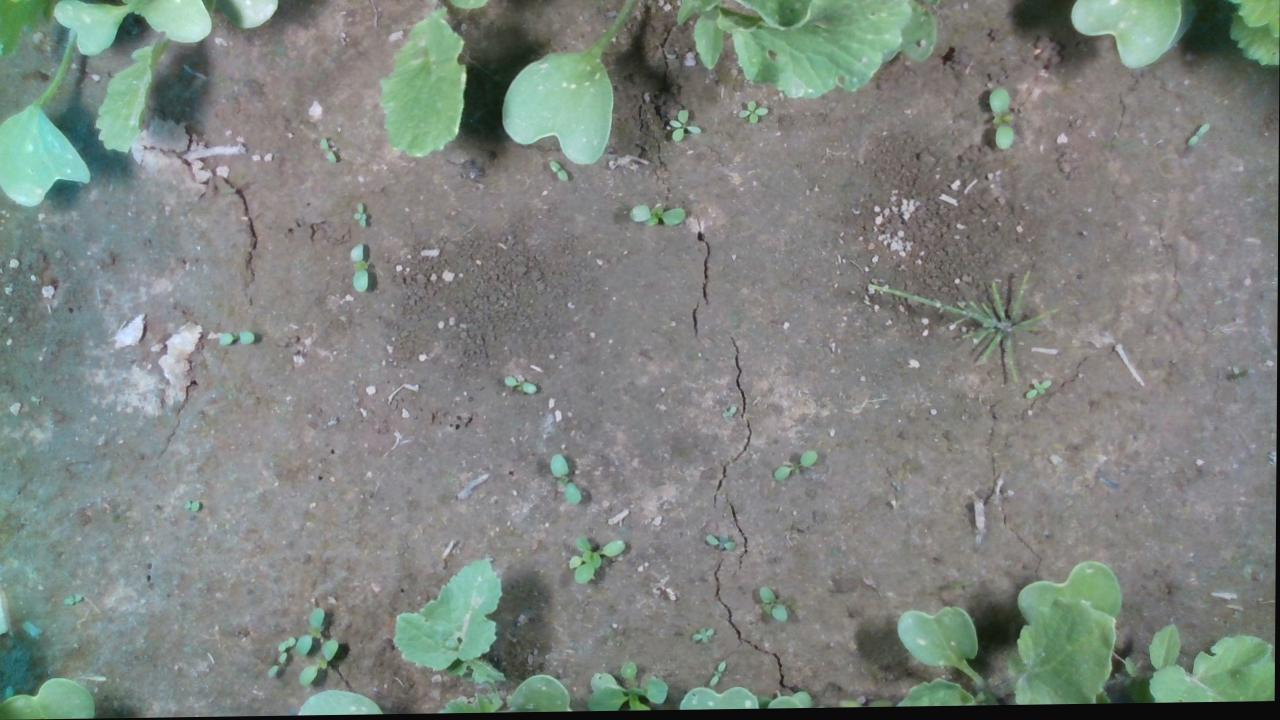weed: (215, 331, 255, 346)
